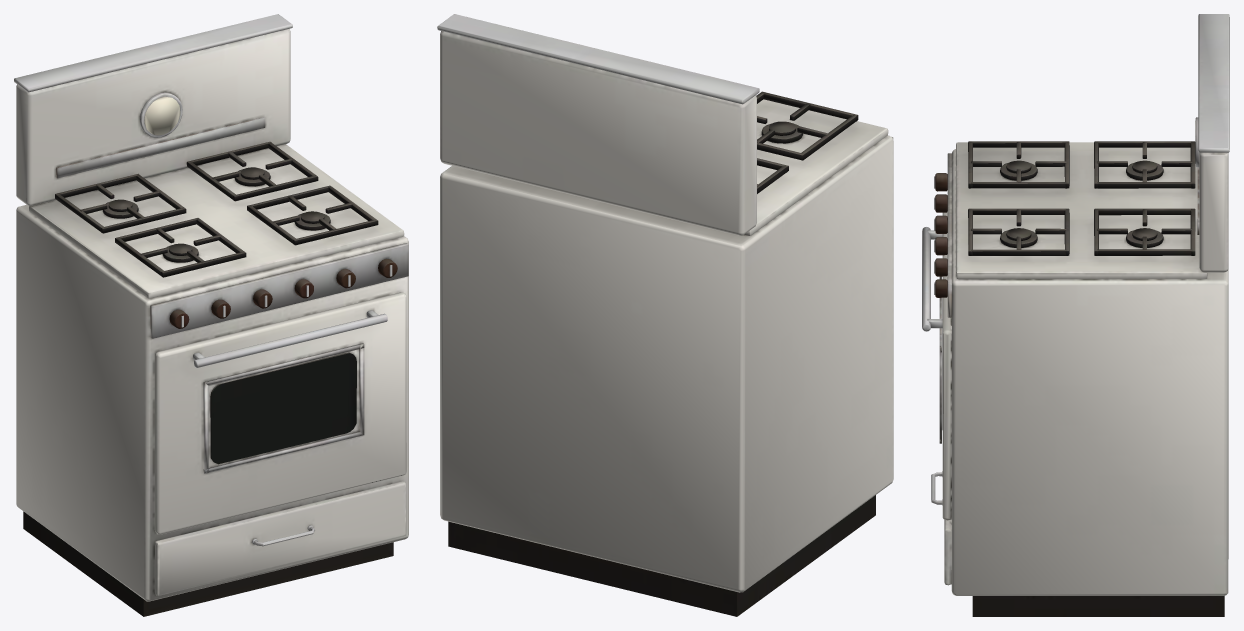
The model's file is stove_white-low.glb.
The picture shows the model from 3 angles, left to right: view 1: azimuth 30°, elevation 25°; view 2: azimuth 150°, elevation 25°; view 3: azimuth 270°, elevation 25°; orthographic projection. The views are drawn at different scales.
Visible parts, largest first — view 1: stove_white-low; view 2: stove_white-low; view 3: stove_white-low.
Part boxes in pixels (x1=…): stove_white-low: x1=14, y1=14, x2=408, y2=616; stove_white-low: x1=437, y1=14, x2=893, y2=616; stove_white-low: x1=922, y1=14, x2=1229, y2=616.
Size of the model in its own units: 0.7641 by 1.24 by 0.733.
Materials: 1 (1 with a texture image).
